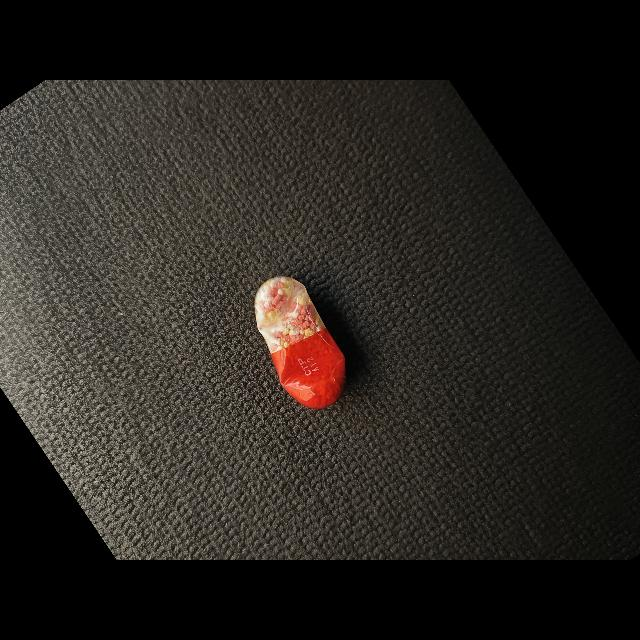Defective Capsule: (254, 276, 345, 409)
